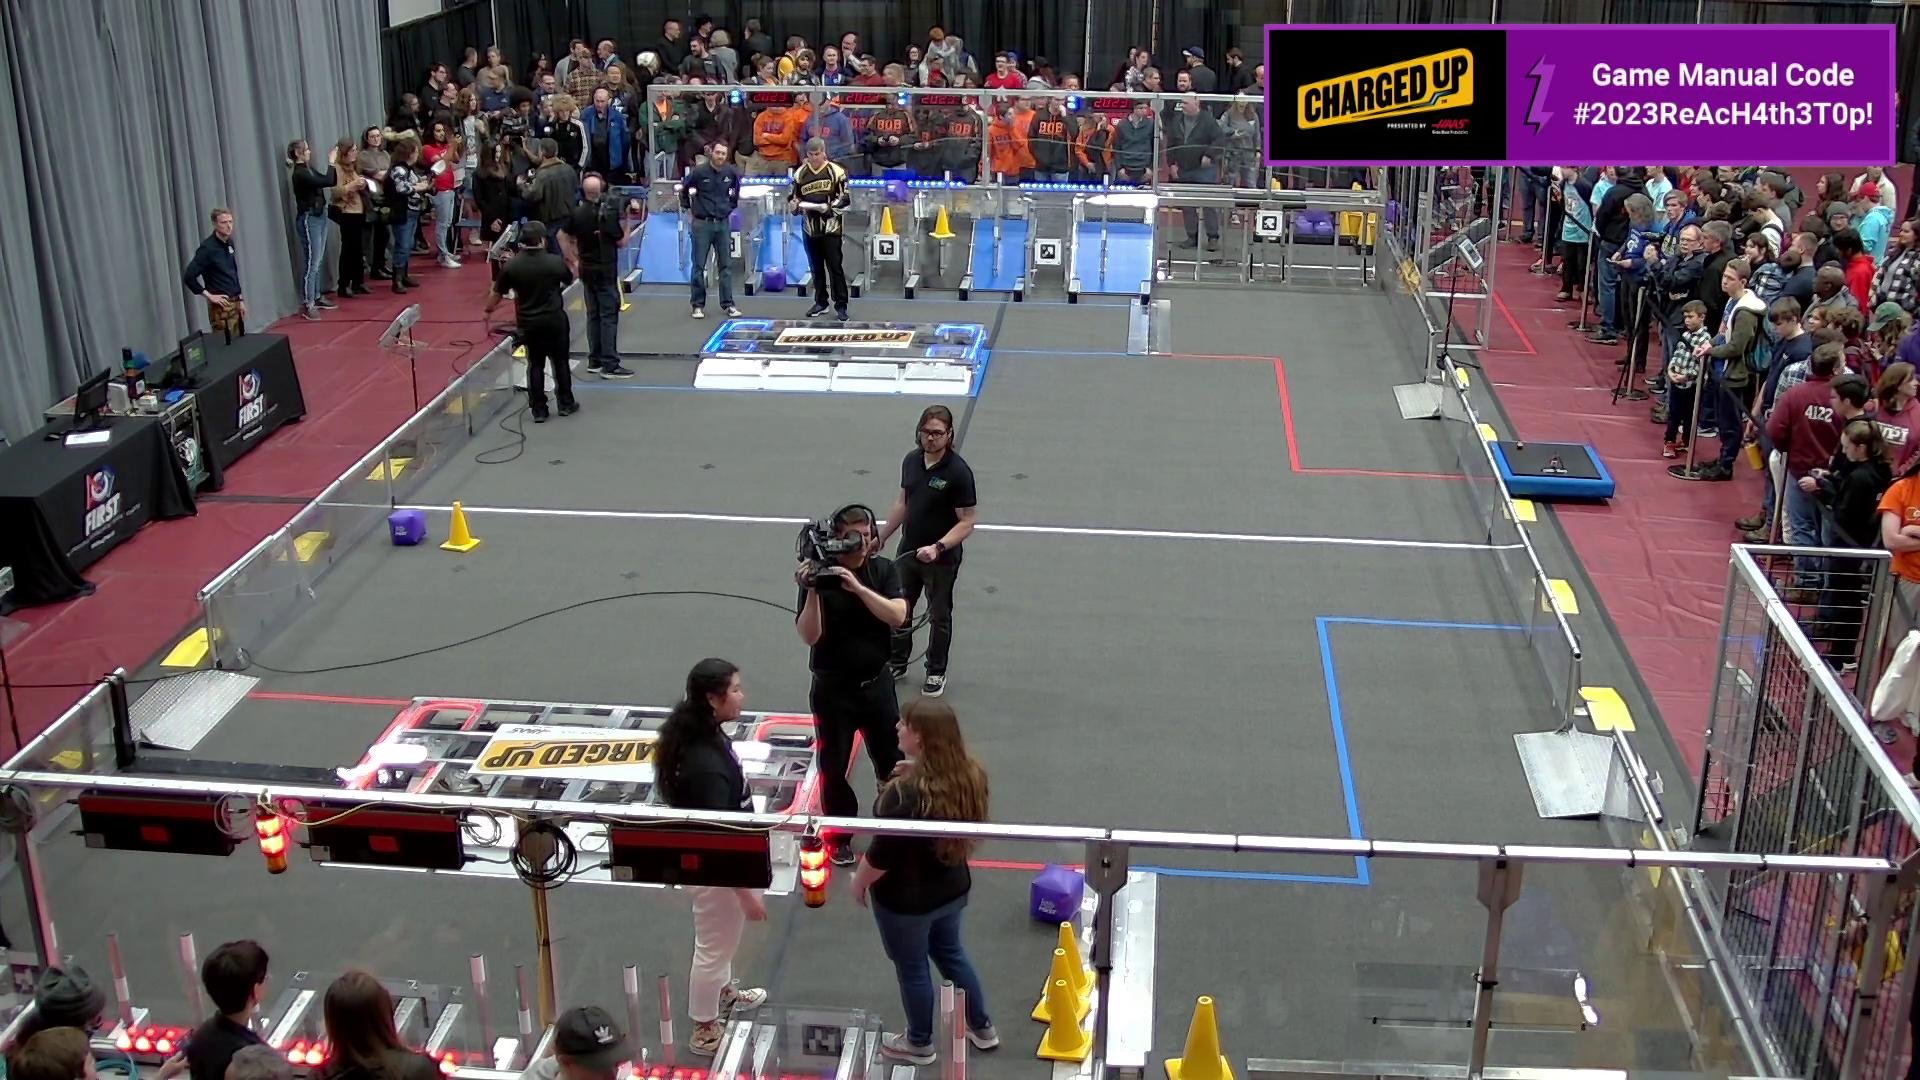robot: (1485, 433, 1615, 505)
